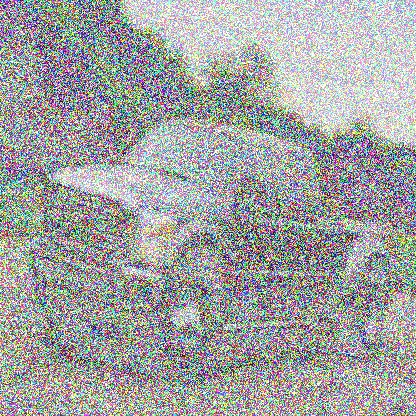Vehicle: (26, 116, 395, 384)
